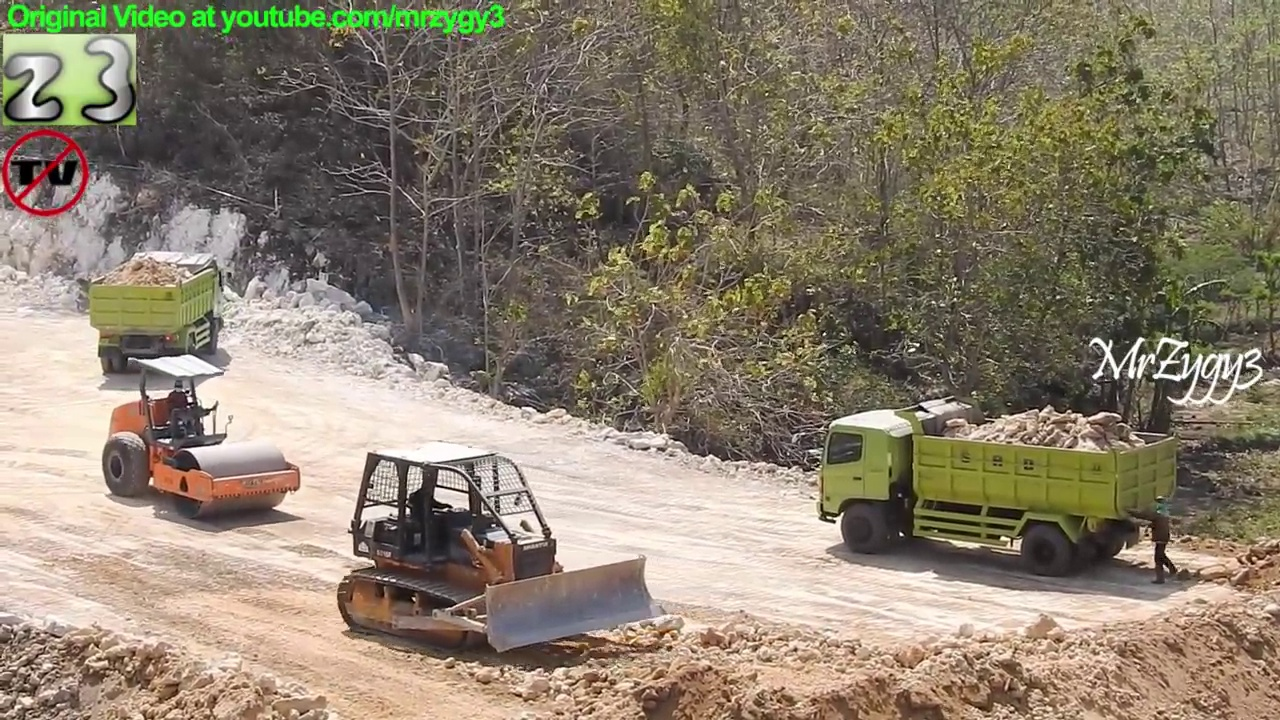bulldozer: (333, 441, 674, 664)
compactor: (99, 348, 305, 527)
truck: (807, 388, 1188, 581), (84, 243, 234, 378)
